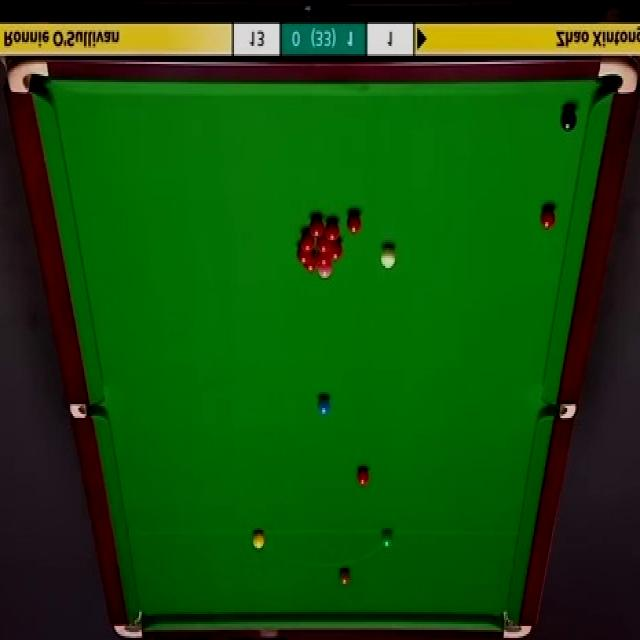black-ball: (559, 107, 577, 132)
blue-ball: (316, 394, 331, 417)
brown-ball: (338, 568, 351, 586)
green-ball: (380, 532, 394, 550)
pink-ball: (316, 270, 330, 284)
red-ball: (539, 204, 555, 231), (346, 210, 362, 234), (354, 465, 370, 488), (324, 222, 340, 244), (299, 231, 314, 254), (331, 240, 344, 262), (311, 222, 324, 244), (296, 250, 310, 264), (305, 255, 317, 271), (319, 254, 330, 270), (317, 242, 331, 252)
white-ball: (380, 246, 397, 268)
yellow-ball: (252, 531, 264, 551)
